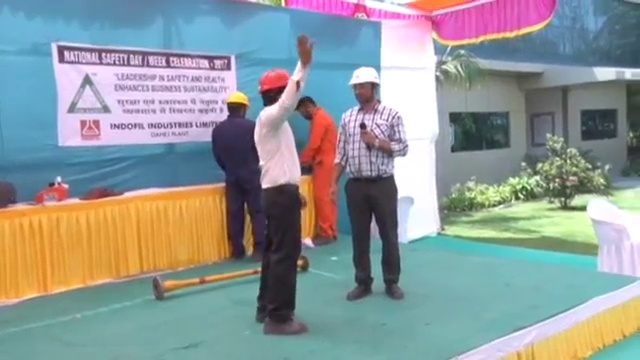helmet: (345, 65, 383, 88), (257, 69, 293, 91), (223, 89, 251, 109)
helmet_off: (295, 96, 319, 122)
helmet_on: (345, 63, 384, 109), (255, 69, 293, 109), (221, 88, 252, 120)
person: (330, 61, 409, 302), (254, 34, 314, 336), (212, 88, 269, 264), (295, 94, 339, 247)
